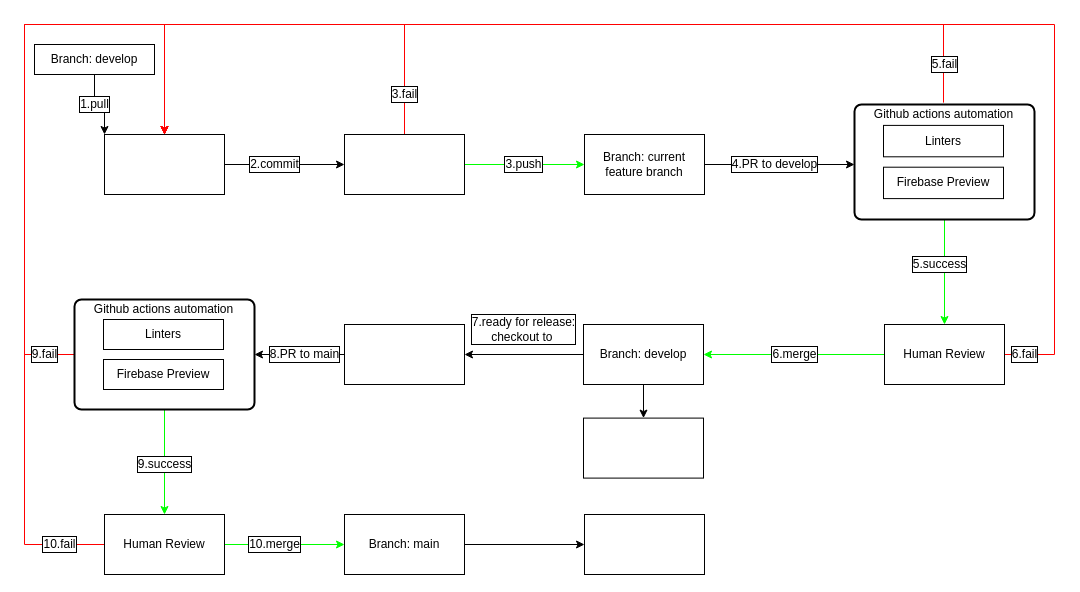
Image size: 1080x592. Some labels were removed from this diagram. Each missing label, with the centre of its shape:
Branch: new release branch: point (404, 354)
Deploy develop on dev site by firebase: point (643, 447)
Deploy main on live site by firebase: point (644, 544)
Linting checks (ESLint and Prettier): point (404, 164)
Local machine (VScode IDE): point (164, 164)
